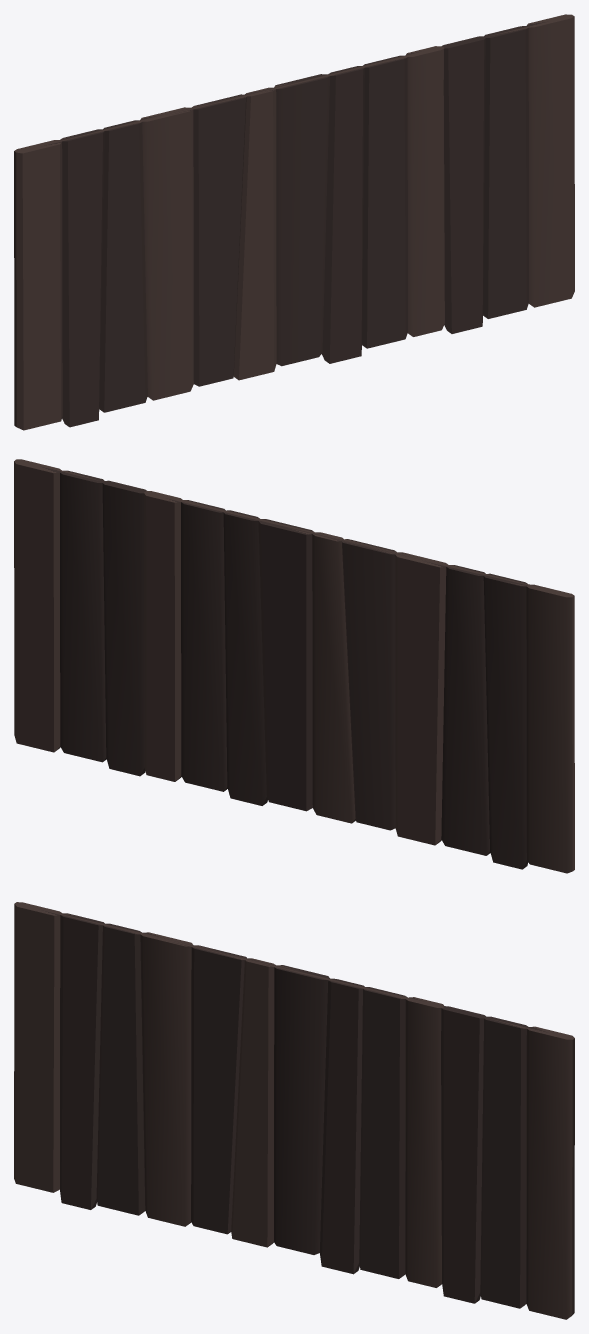
File: SM_Env_Wall_03.fbx
3 renders of one model, top to bottom at view 1: azimuth 30°, elevation 25°; view 2: azimuth 150°, elevation 25°; view 3: azimuth 330°, elevation 25°, orthographic.
Parts seen in each view (by area): view 1: SM_Env_Wall_03; view 2: SM_Env_Wall_03; view 3: SM_Env_Wall_03.
Part boxes in pixels (x1,y1,x2,y2): SM_Env_Wall_03: (14,14,574,430); SM_Env_Wall_03: (14,459,574,873); SM_Env_Wall_03: (14,902,574,1319).
Size of the model in its own units: 305 by 149 by 7.21.
1 material, 1 textured.
